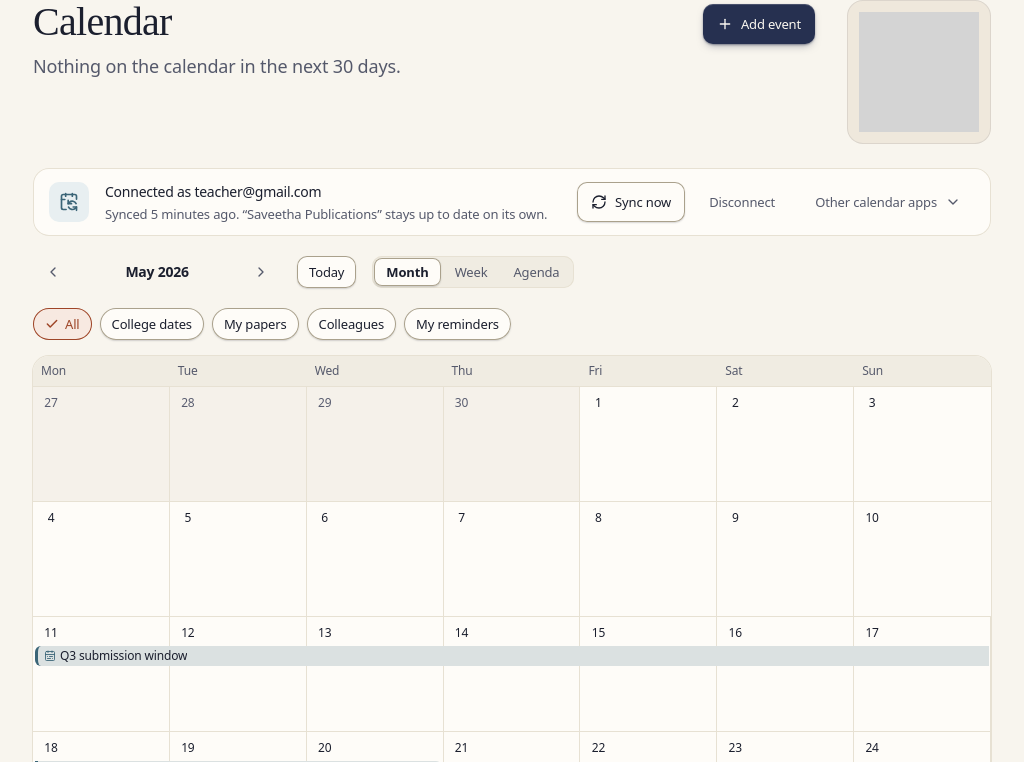
Test: The event sheet › says it is already in Google Calendar once connected, instead of offering to add it
This screenshot has width=1024, height=762.
Step 1. Click the 1st button "Q3 submission window" → x=124, y=656, box [35,646,989,666]
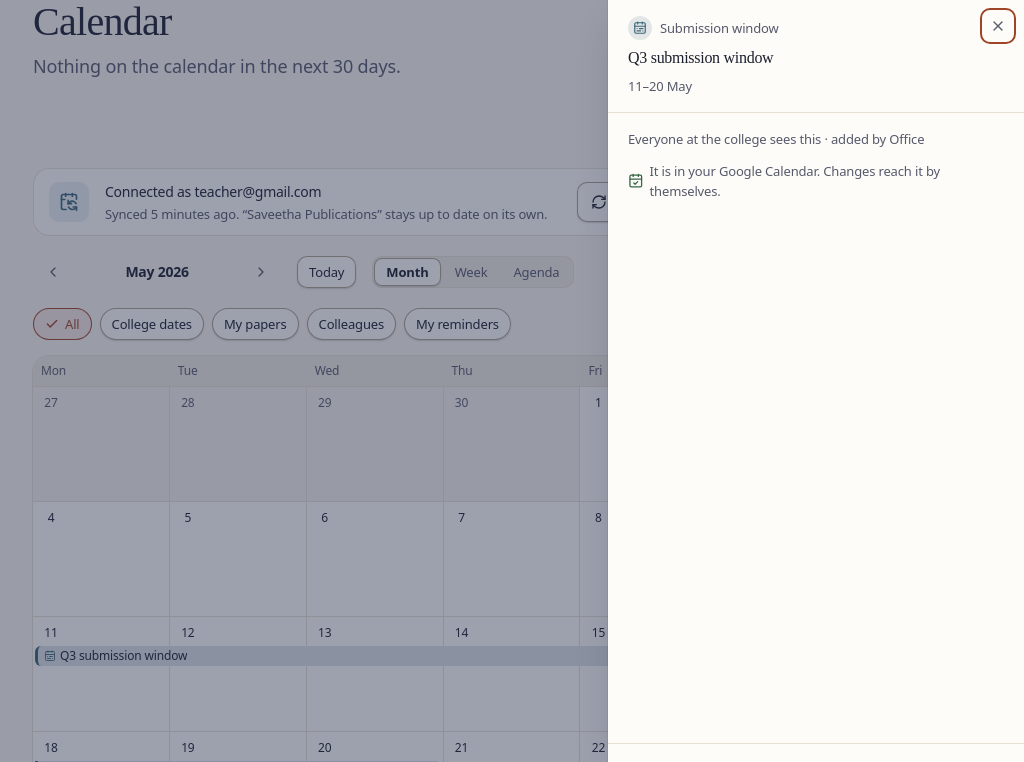
expect the text "in your Google Calendar" is shown: met, box [650,162,940,200]
